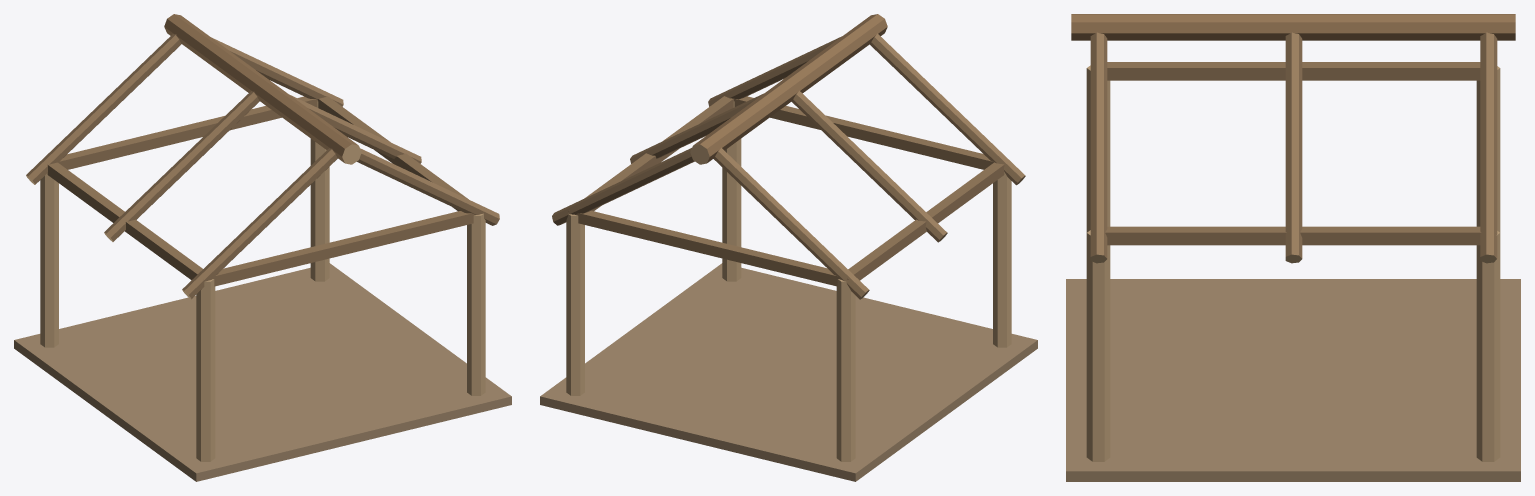
File: building_shrine_frame.glb
The picture shows the model from 3 angles, left to right: view 1: azimuth 30°, elevation 25°; view 2: azimuth 150°, elevation 25°; view 3: azimuth 270°, elevation 25°; orthographic projection. The views are drawn at different scales.
Visible parts, largest first — view 1: building_shrine_frame; view 2: building_shrine_frame; view 3: building_shrine_frame.
Part boxes in pixels (x1=…): building_shrine_frame: x1=14, y1=14, x2=511, y2=481; building_shrine_frame: x1=540, y1=14, x2=1037, y2=481; building_shrine_frame: x1=1066, y1=14, x2=1520, y2=481.
Bounding box in the file's own units: 3.85 × 3.47 × 3.85.
